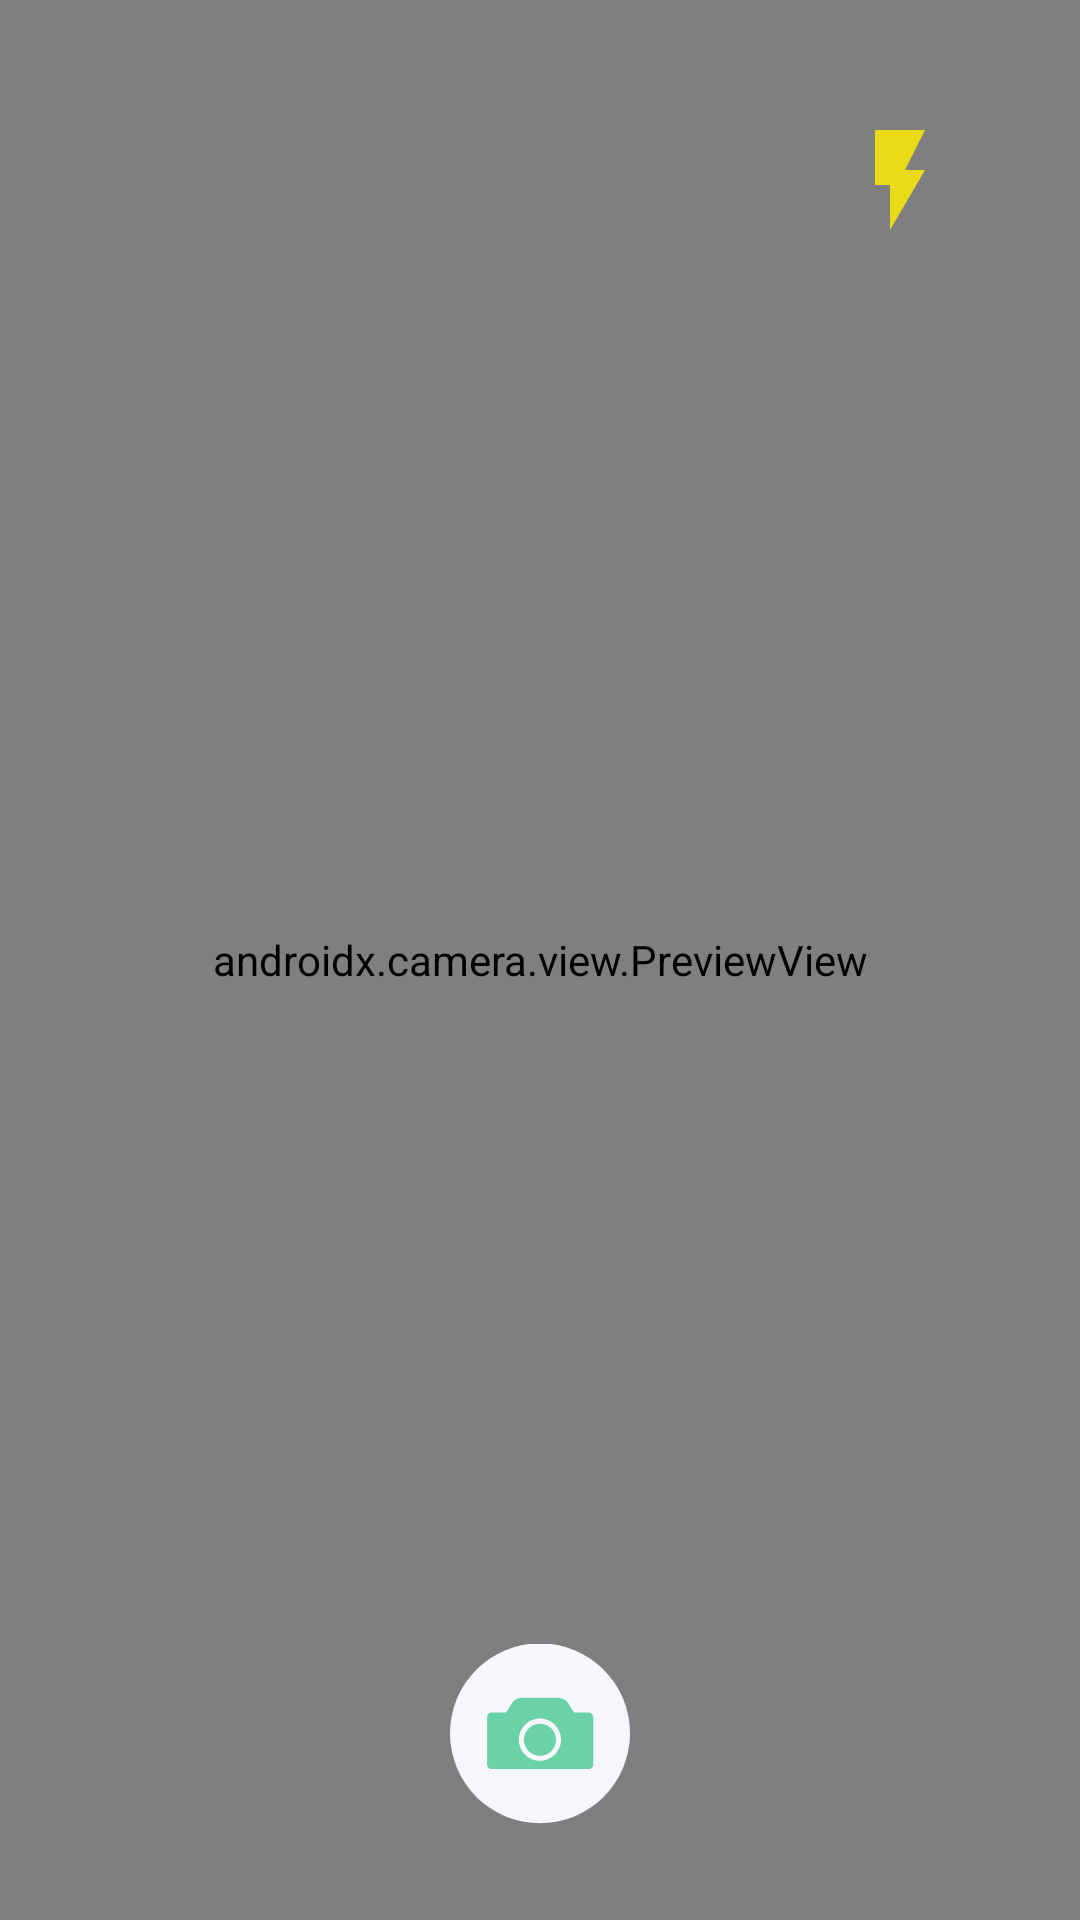

Screen size 1080×1920. Icon name, then its box in pixels as rect(x1, y1, x2, y2):
capture: rect(450, 1644, 630, 1824)
flash on: rect(875, 130, 925, 230)
